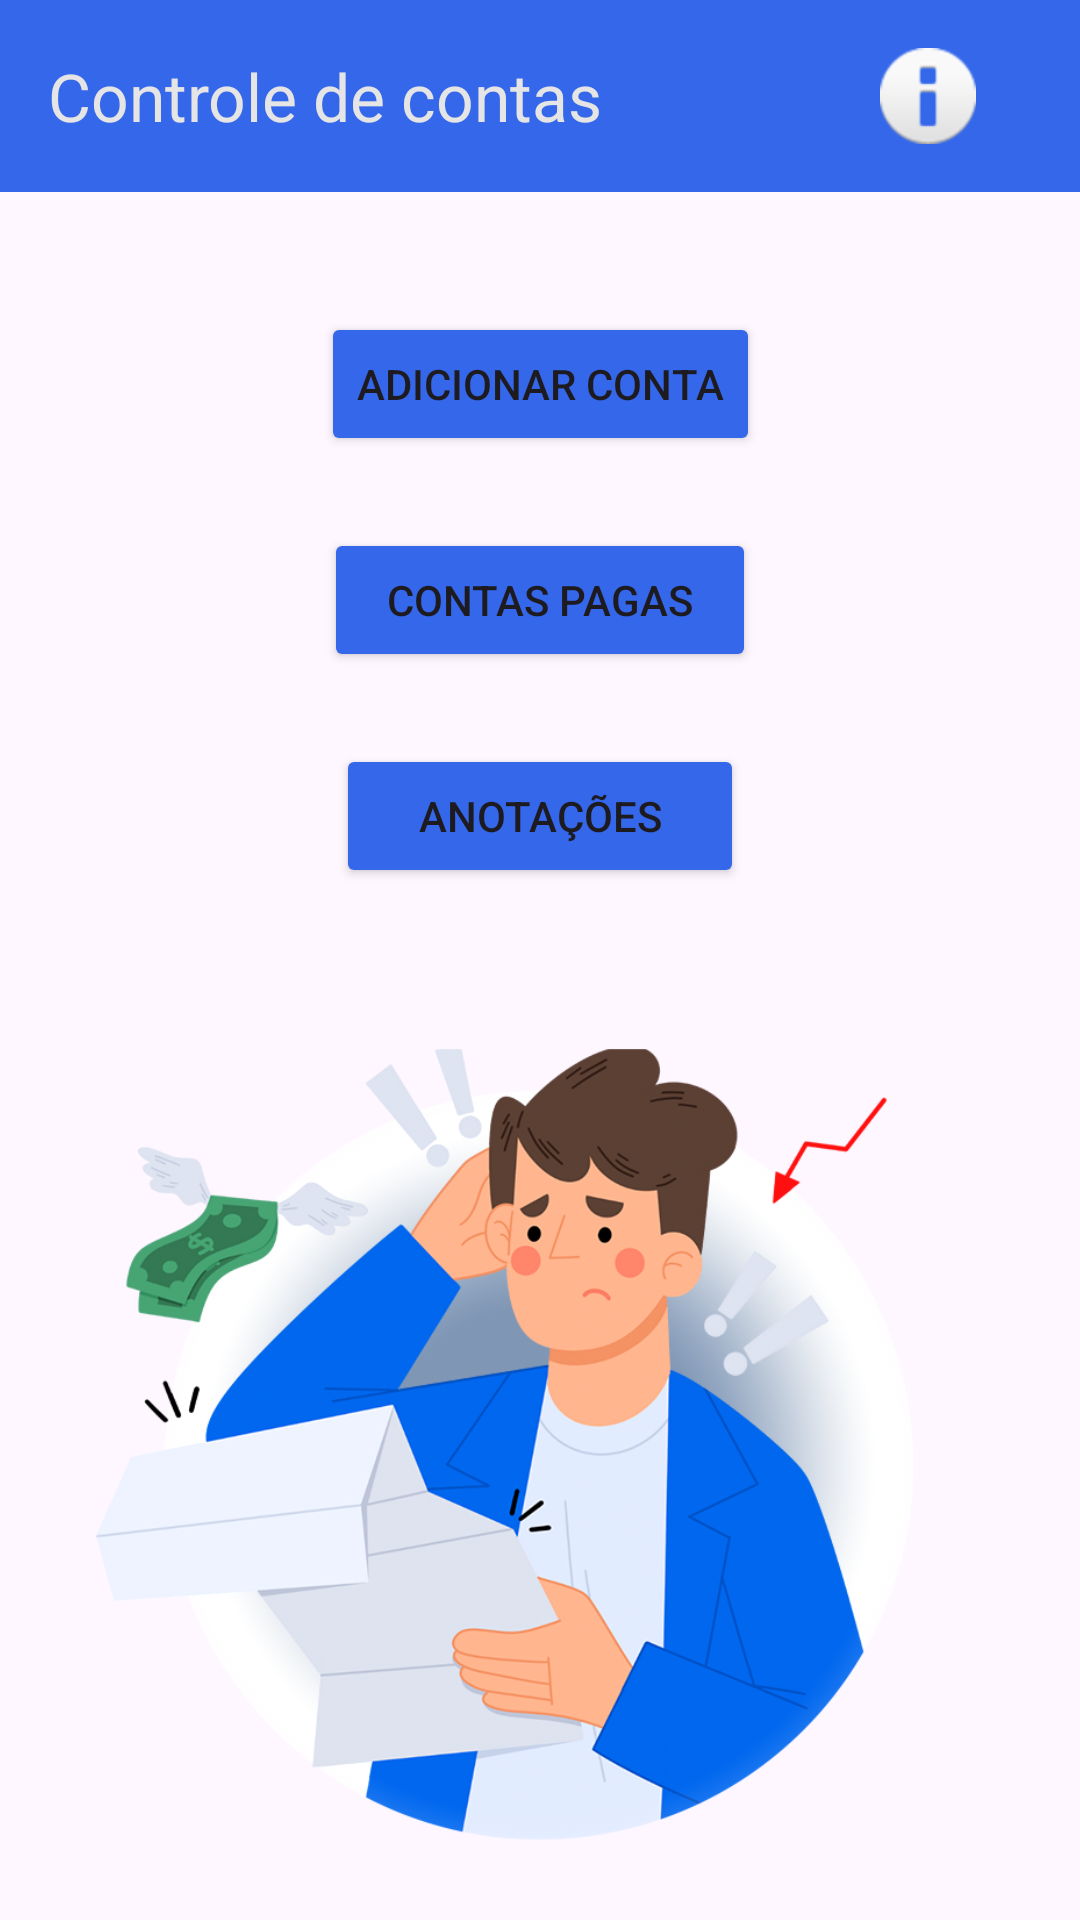

Icons on this 1080px x 1920px Android screen, each with its box as detection(x1, y1, x2, y2):
info: detection(880, 48, 976, 144)
